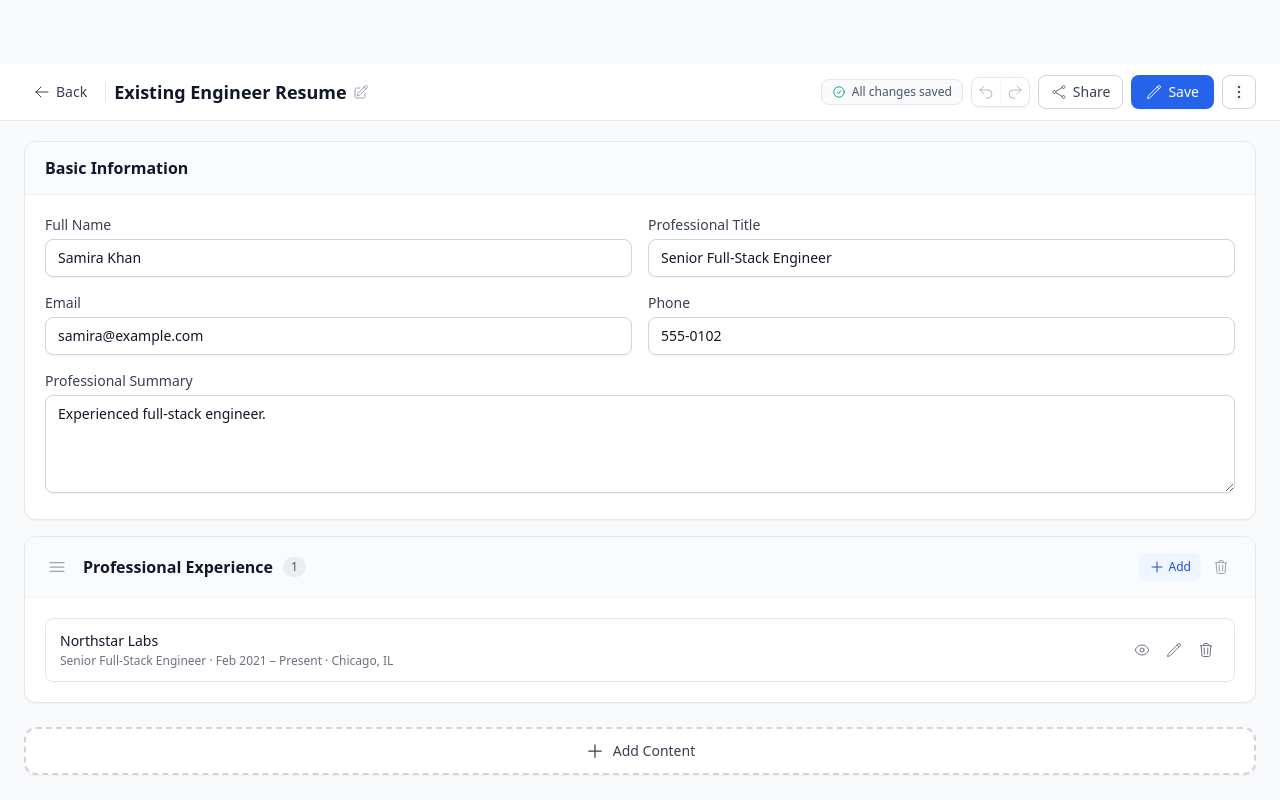
Resume Import Modal & Editor Export JSON integration › exports the current resume as JSON Resume from the editor overflow menu and round-trips cleanly
Click the button with test id "toolbar-overflow-btn".
click(1239, 92)  # box [1222,75,1256,109]
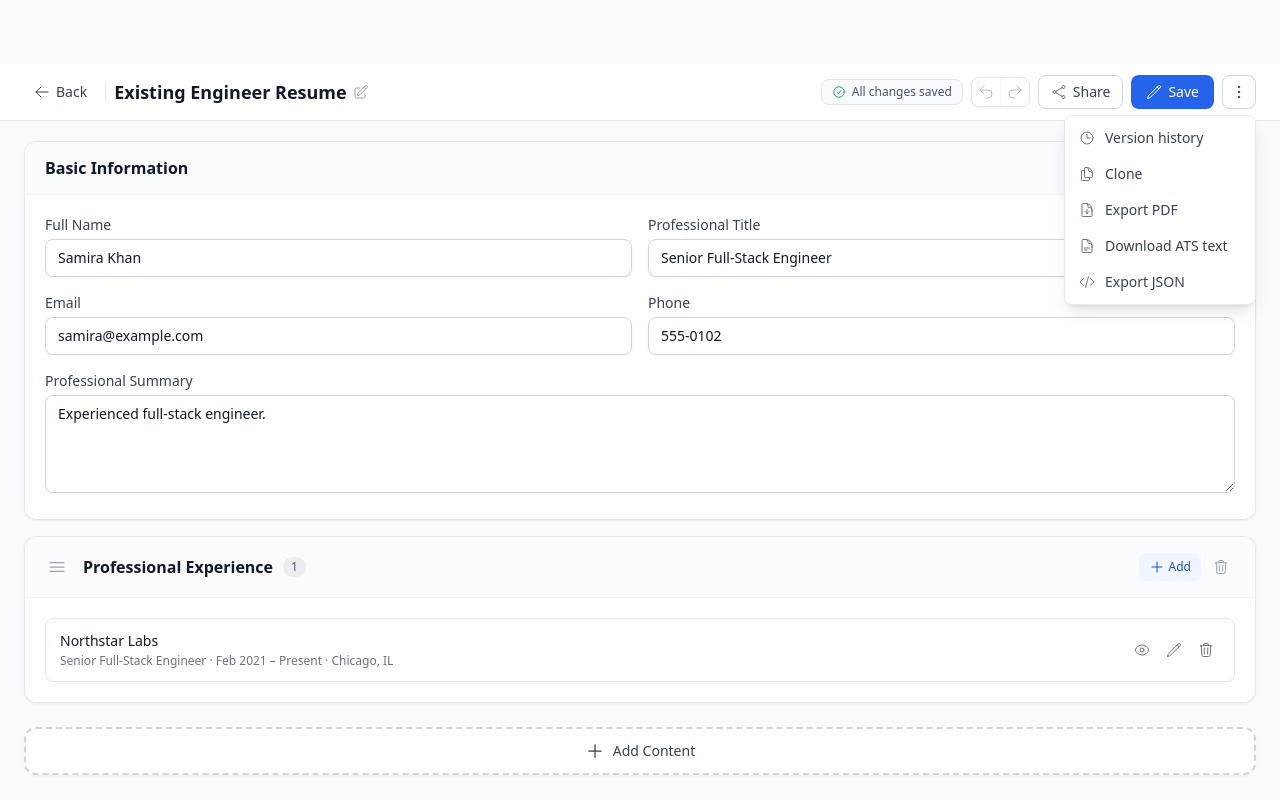
Expected: the menu item "Export JSON" is shown
Click the menu item "Export JSON".
click(1160, 282)  # box [1065,264,1255,300]
(page scrolled)
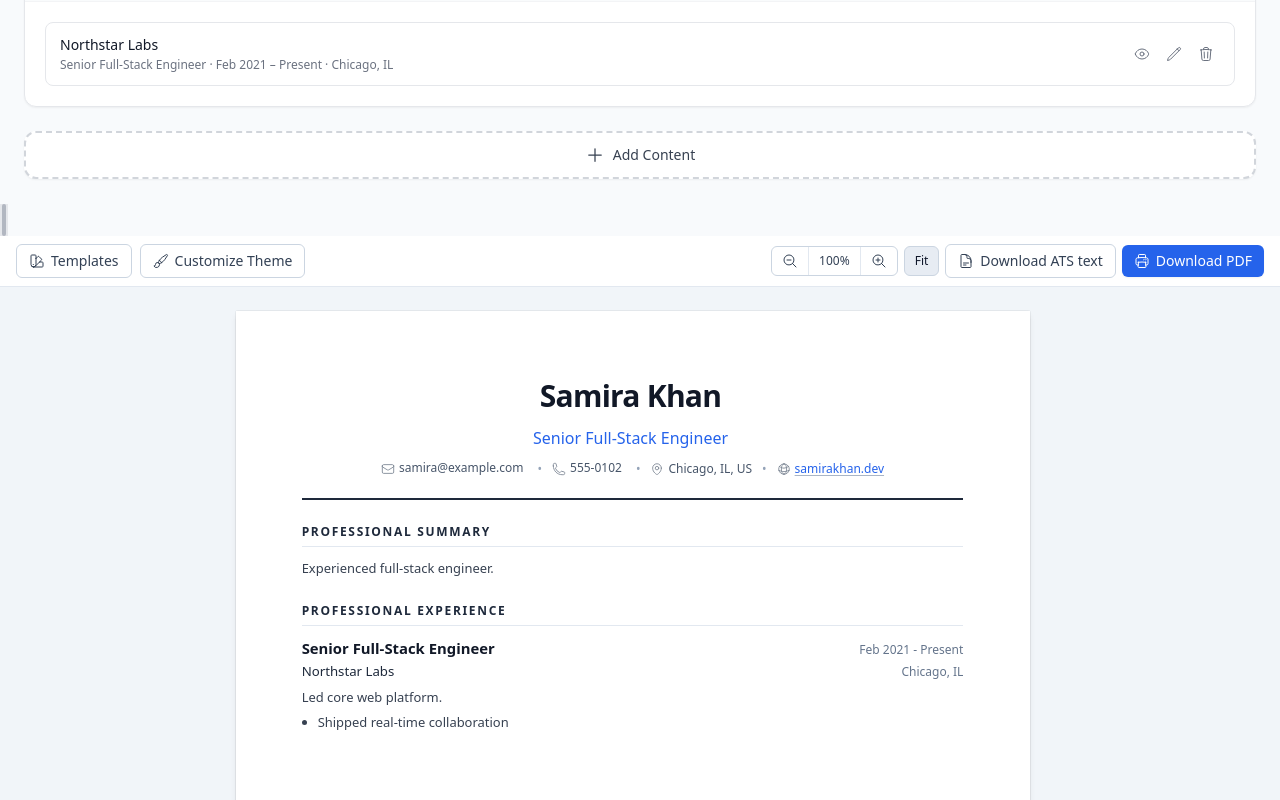
Expected: the text "Northstar Labs" is shown, [60,35,158,55]
Expected: the menu item "Export JSON" is gone
Expected: the button "Samira Khan" is shown, [540,375,721,416]
